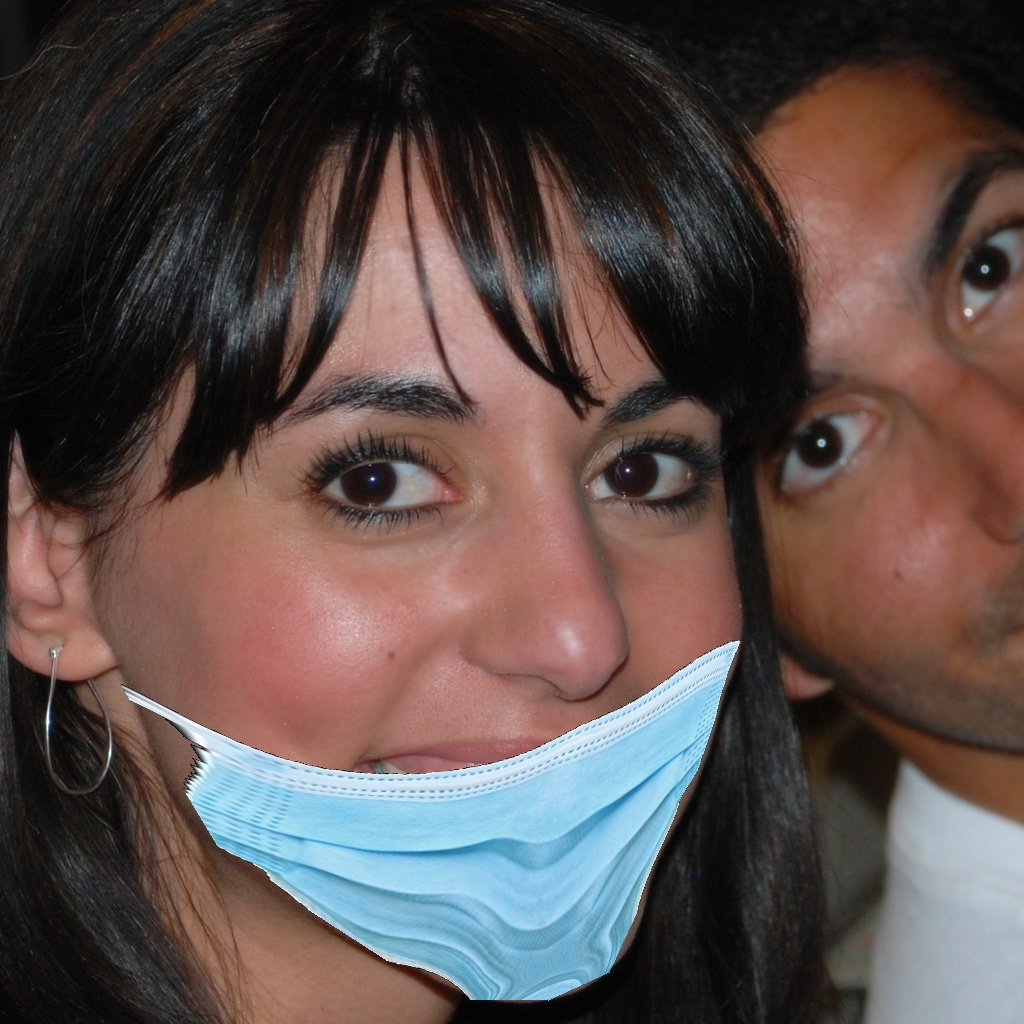mascarilla_mal_puesta: (39, 348, 817, 1005)
